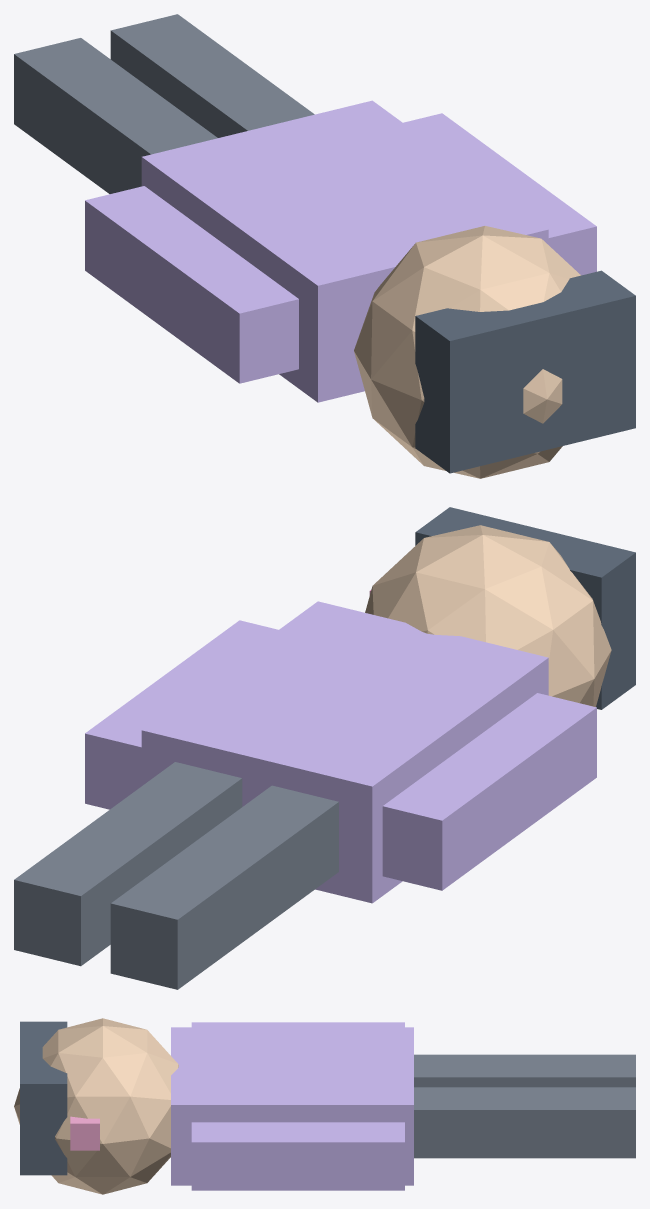
The model's file is manager_variant_1.glb.
3 views of the same model, one above another, from view 1: azimuth 30°, elevation 25°; view 2: azimuth 150°, elevation 25°; view 3: azimuth 270°, elevation 25° (orthographic). The views are drawn at different scales.
Visible parts, largest first — view 1: torso_2, hair_6, arm_l_3, head_5, leg_l_0, leg_r_1, arm_r_4; view 2: torso_2, leg_l_0, arm_l_3, head_5, leg_r_1, arm_r_4, hair_6; view 3: torso_2, head_5, leg_r_1, arm_r_4, leg_l_0, hair_6, arm_l_3, earring_or_badge_9.
Boxes of the visible parts, bbox=[...] form: torso_2: bbox=[141, 100, 548, 402]; hair_6: bbox=[415, 270, 635, 473]; arm_l_3: bbox=[85, 186, 298, 383]; head_5: bbox=[354, 226, 580, 478]; leg_l_0: bbox=[14, 38, 217, 193]; leg_r_1: bbox=[110, 14, 314, 137]; arm_r_4: bbox=[403, 113, 596, 275]; torso_2: bbox=[141, 601, 548, 903]; leg_l_0: bbox=[110, 785, 338, 989]; arm_l_3: bbox=[382, 693, 596, 890]; head_5: bbox=[365, 525, 611, 706]; leg_r_1: bbox=[14, 762, 242, 966]; arm_r_4: bbox=[85, 620, 278, 809]; hair_6: bbox=[415, 507, 635, 709]; torso_2: bbox=[171, 1027, 413, 1185]; head_5: bbox=[14, 1018, 178, 1194]; leg_r_1: bbox=[414, 1087, 635, 1158]; arm_r_4: bbox=[191, 1122, 404, 1190]; leg_l_0: bbox=[414, 1054, 635, 1087]; hair_6: bbox=[20, 1021, 67, 1175]; arm_l_3: bbox=[191, 1022, 404, 1027]; earring_or_badge_9: bbox=[70, 1116, 99, 1150].
Bounding box in the file's own units: 0.96 × 0.6 × 2.1.
